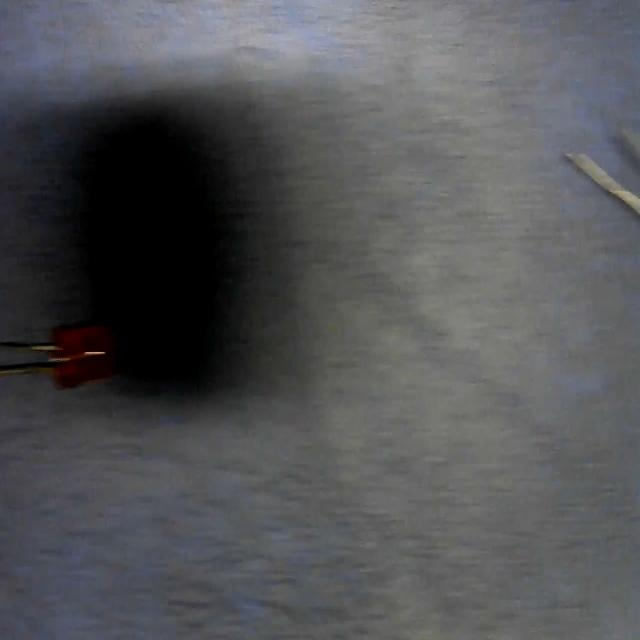LED: (0, 302, 119, 406)
